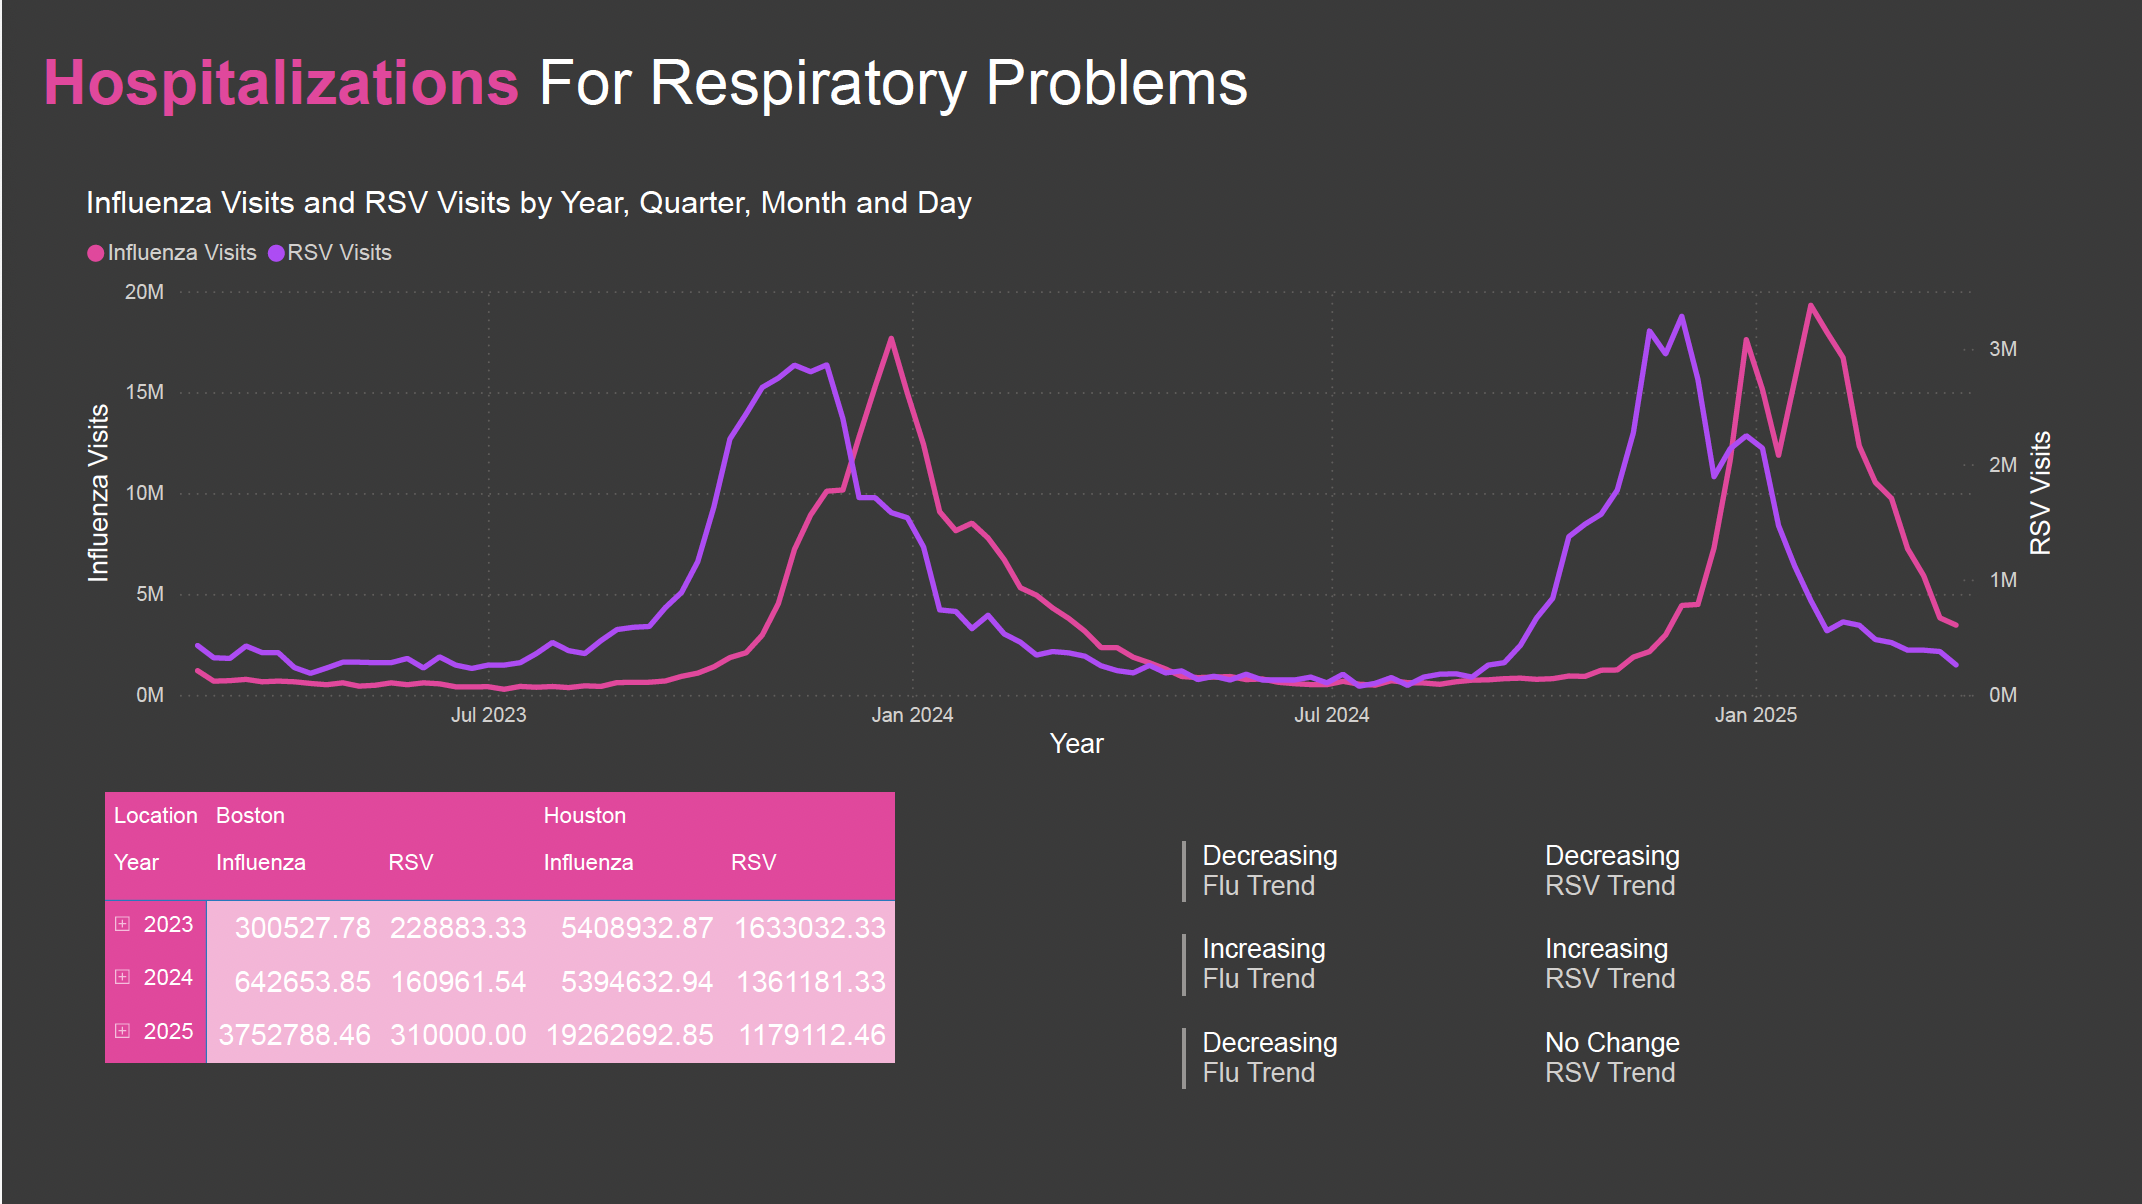

The page's visual inventory and layout, read from the dashboard file:
{"tool":"powerbi","page":{"name":"Hospitalizations","canvas":[1280,720],"ordinal":3},"visuals":[{"type":"lineChart","fields":{"Y":["Avg(Combined.total_visits_influenza)"],"Category":["Combined.week_end.Variation.Date Hierarchy.Year","Combined.week_end.Variation.Date Hierarchy.Quarter","Combined.week_end.Variation.Date Hierarchy.Month","Combined.week_end.Variation.Date Hierarchy.Day"],"Y2":["Avg(Combined.total_visits_rsv)"]},"box":[45,110,1188.8,348.8],"z":0},{"type":"pivotTable","fields":{"Rows":["Combined.week_end.Variation.Date Hierarchy.Year","Combined.week_end.Variation.Date Hierarchy.Quarter","Combined.week_end.Variation.Date Hierarchy.Month","Combined.week_end.Variation.Date Hierarchy.Day"],"Values":["Avg(Combined.total_visits_influenza)","Avg(Combined.total_visits_rsv)"],"Columns":["Combined.Location"]},"box":[57.1,468.7,611.4,240.3],"z":1000},{"type":"textbox","box":[19,22.6,1241.9,58.3],"z":2000},{"type":"multiRowCard","fields":{"Values":["Min(Combined.ed_trends_influenza)","Combined.ed_trends_rsv"]},"box":[700.7,498.4,431.8,182],"z":3000}]}

Visuals, with their boxes in screenshot pixels (x1, y1, x2, y2), scaled from the page's 1280x720 canvas onto the 2142x1204 screenshot:
lineChart - Avg(Combined.total_visits_influenza) x Combined.week_end.Variation.Date Hierarchy.Year: x1=75, y1=184, x2=2065, y2=767
pivotTable - Combined.week_end.Variation.Date Hierarchy.Year x Combined.week_end.Variation.Date Hierarchy.Quarter: x1=96, y1=784, x2=1119, y2=1186
textbox: x1=32, y1=38, x2=2110, y2=135
multiRowCard - Min(Combined.ed_trends_influenza) x Combined.ed_trends_rsv: x1=1173, y1=833, x2=1895, y2=1138
